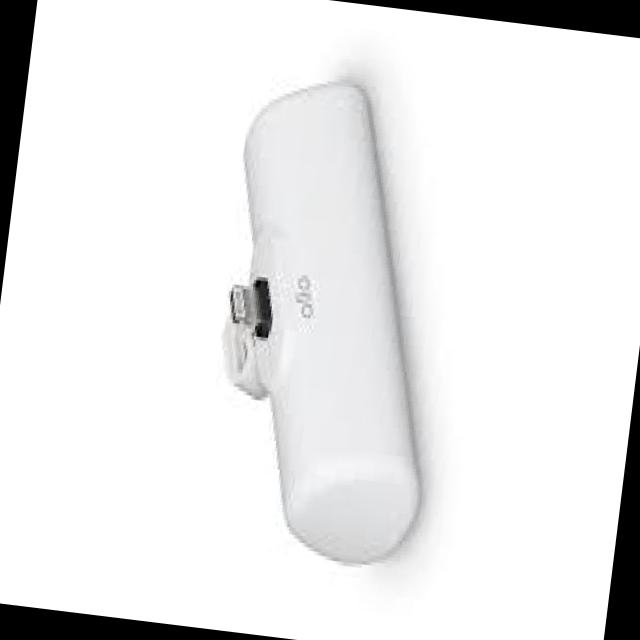portable-charger: (185, 50, 478, 585)
